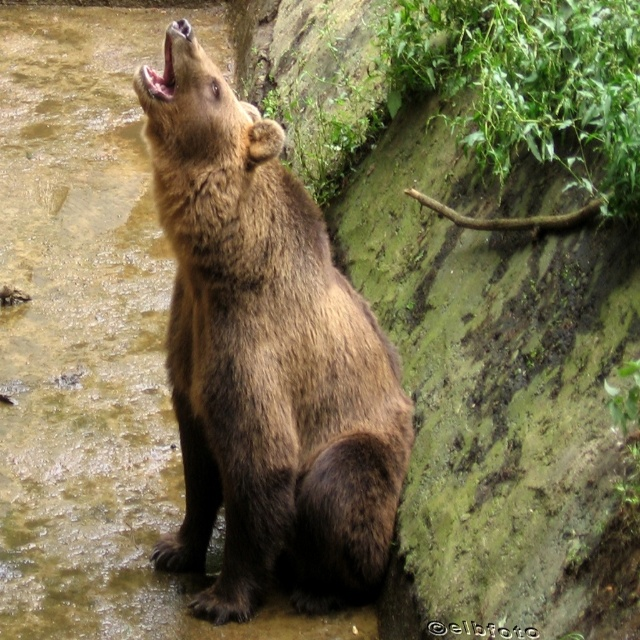Brown bear: (129, 14, 416, 623)
